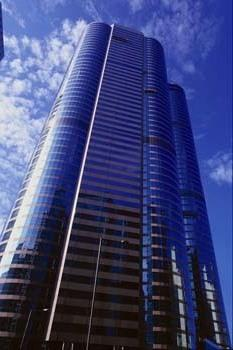building: (0, 21, 233, 350)
